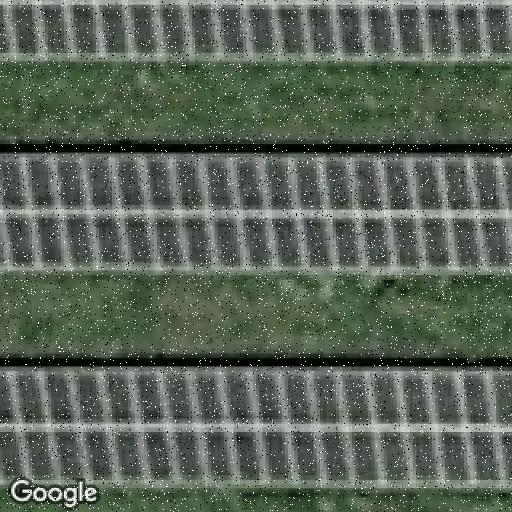solar-panel: (0, 363, 512, 488), (0, 152, 512, 274), (0, 0, 512, 67)
